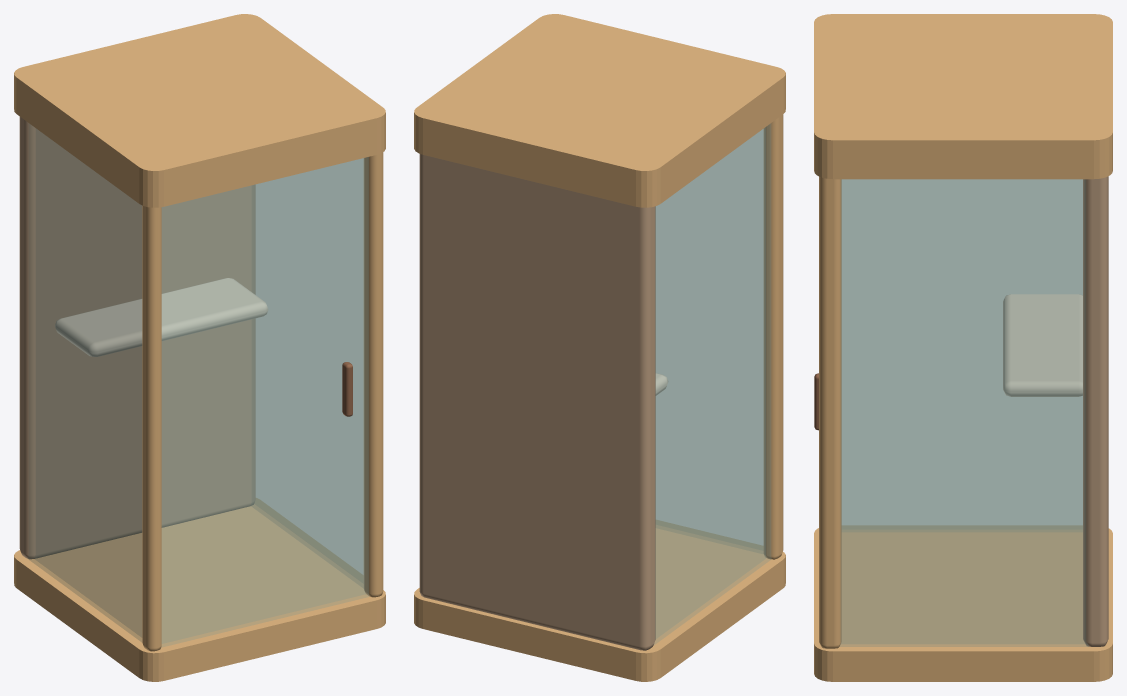
The model's file is kit_phone_booth_v1.glb.
3 renders of one model, left to right at view 1: azimuth 30°, elevation 25°; view 2: azimuth 150°, elevation 25°; view 3: azimuth 270°, elevation 25°, orthographic. The views are drawn at different scales.
Parts seen in each view (by area): view 1: body; view 2: body; view 3: body.
Part boxes in pixels (<box>): body: <box>14,14,385,681</box>; body: <box>414,14,785,681</box>; body: <box>814,14,1112,681</box>.
Size of the model in its own units: 1.1 by 2.2 by 1.1.
